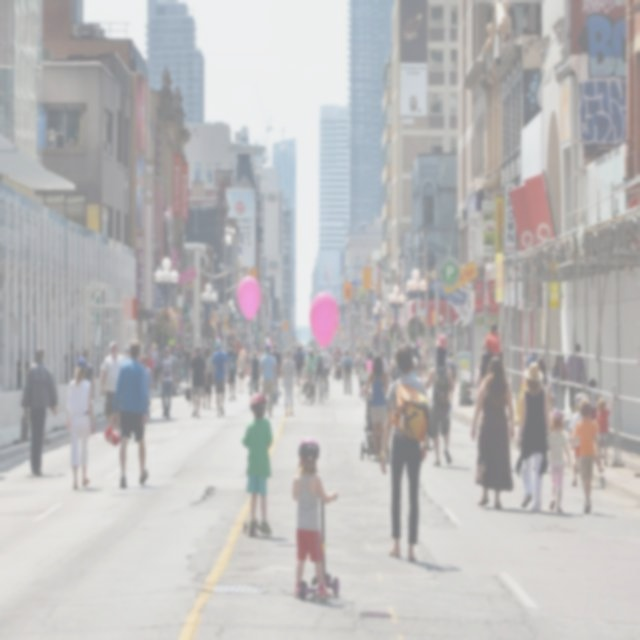pessoa: (378, 340, 436, 562), (290, 434, 339, 602), (470, 355, 516, 509), (103, 338, 149, 490), (514, 360, 554, 512), (18, 346, 59, 476), (240, 390, 274, 538), (65, 356, 96, 490), (422, 351, 454, 467), (570, 398, 602, 514), (568, 391, 606, 487), (364, 353, 390, 462), (544, 409, 570, 514), (100, 341, 126, 438), (185, 344, 208, 420), (563, 343, 587, 415), (256, 343, 278, 417), (594, 392, 615, 467), (211, 338, 230, 418), (479, 321, 504, 378), (158, 346, 177, 420), (278, 348, 297, 416), (477, 345, 505, 388), (138, 346, 154, 420), (536, 356, 554, 416), (226, 340, 240, 402), (556, 350, 568, 420), (81, 348, 96, 403), (445, 348, 458, 411), (311, 348, 325, 404), (141, 355, 153, 420), (270, 341, 282, 406), (317, 346, 332, 398), (432, 334, 450, 374), (90, 342, 108, 380), (225, 342, 238, 394), (202, 346, 212, 410), (301, 347, 318, 384), (586, 377, 600, 421), (150, 341, 162, 392), (16, 348, 30, 390), (341, 348, 353, 396), (63, 341, 76, 384), (236, 348, 248, 393), (327, 343, 342, 379), (412, 342, 426, 380), (294, 346, 307, 386), (388, 348, 402, 384), (356, 361, 369, 398), (250, 351, 260, 397), (181, 343, 191, 384), (174, 344, 184, 384), (423, 346, 434, 378), (366, 352, 374, 393), (380, 350, 388, 390), (278, 338, 286, 378), (379, 349, 388, 384), (355, 350, 366, 374), (180, 340, 186, 382), (526, 346, 537, 368), (252, 343, 266, 360), (362, 346, 377, 360), (350, 350, 358, 375), (122, 342, 131, 360), (188, 339, 196, 358), (246, 348, 252, 372), (430, 343, 436, 367), (76, 344, 84, 361), (302, 344, 308, 366), (290, 343, 297, 360), (448, 347, 456, 359), (258, 379, 264, 391), (199, 346, 205, 356), (313, 345, 318, 355), (342, 347, 346, 357)
